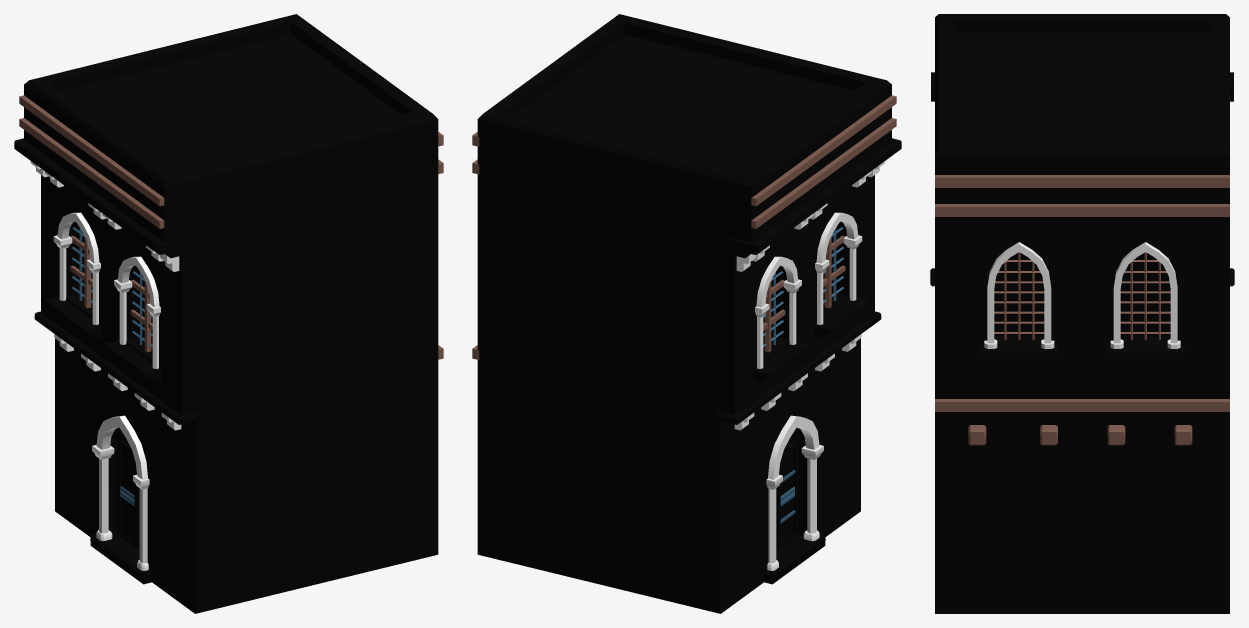
File: civilian_house_29.FBX
The picture shows the model from 3 angles, left to right: view 1: azimuth 30°, elevation 25°; view 2: azimuth 150°, elevation 25°; view 3: azimuth 270°, elevation 25°; orthographic projection. The views are drawn at different scales.
Visible parts, largest first — view 1: civilian_house_29_LOD0; view 2: civilian_house_29_LOD0; view 3: civilian_house_29_LOD0.
Part boxes in pixels (x1,y1,x2,y2): civilian_house_29_LOD0: (14, 14, 443, 613); civilian_house_29_LOD0: (472, 14, 901, 613); civilian_house_29_LOD0: (930, 14, 1234, 613).
Size of what is drawn, in the model's own units: 637 by 901 by 536.
